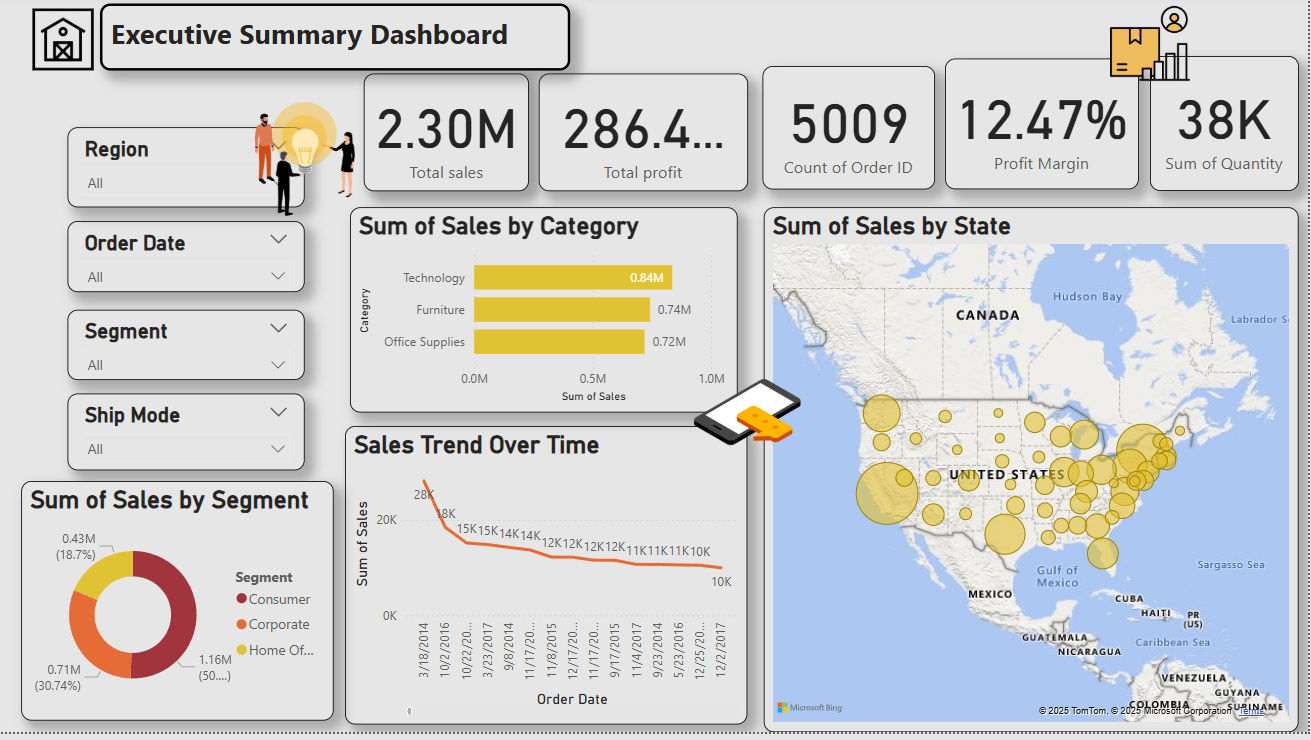

The dashboard page shown, as its layout file describes it:
{"tool":"powerbi","page":{"name":"Executive summary dashboard","canvas":[1280,720],"ordinal":1},"visuals":[{"type":"card","fields":{"Values":["Sample - Superstore.Total sales"]},"box":[342.4,85.6,163.9,113.7],"z":0},{"type":"card","fields":{"Values":["Sample - Superstore.Total profit"]},"box":[516,85.6,220.1,113.7],"z":1000},{"type":"card","fields":{"Values":["Count(Sample - Superstore.Order ID)"]},"box":[746.5,68.6,168.8,120.8],"z":2000},{"type":"card","fields":{"Values":["Sample - Superstore.Profit Margin"]},"box":[924.9,61.7,189.4,127.6],"z":3000},{"type":"card","fields":{"Values":["Sum(Sample - Superstore.Quantity)"]},"box":[1125,58.7,145.5,132.1],"z":4000},{"type":"lineChart","title":"Sales Trend Over Time","fields":{"Category":["Sample - Superstore.Order Date"],"Y":["Sum(Sample - Superstore.Sales)"]},"box":[337.5,420.7,393.8,292.3],"z":5000},{"type":"slicer","fields":{"Values":["Sample - Superstore.Order Date"]},"box":[65.9,219.6,231.9,70],"z":6000},{"type":"slicer","fields":{"Values":["Sample - Superstore.Region"]},"box":[65.9,129,231.9,78.2],"z":7000},{"type":"slicer","fields":{"Values":["Sample - Superstore.Segment"]},"box":[65.9,307.4,231.9,68.6],"z":8000},{"type":"slicer","fields":{"Values":["Sample - Superstore.Ship Mode"]},"box":[65.9,388.3,231.9,75.5],"z":9000},{"type":"map","fields":{"Category":["Sample - Superstore.State"],"Size":["Sum(Sample - Superstore.Sales)"]},"box":[747.2,206.7,523.4,513.6],"z":10000},{"type":"donutChart","fields":{"Category":["Sample - Superstore.Segment"],"Y":["Sum(Sample - Superstore.Sales)"]},"box":[20.8,474.5,305.7,234.8],"z":11000},{"type":"clusteredBarChart","fields":{"Category":["Sample - Superstore.Category"],"Y":["Sum(Sample - Superstore.Sales)"]},"box":[342.4,206.7,379.1,200.5],"z":12000},{"type":"image","box":[203,92.9,190.8,121.1],"z":13000},{"type":"textbox","box":[97.4,6.9,459.7,65.9],"z":14000},{"type":"image","box":[673.8,352.2,114.9,108.8],"z":15000},{"type":"image","box":[27.4,0,70,85.1],"z":16000},{"type":"image","box":[1020.9,0,208.6,93.3],"z":16001}]}

Visuals, with their boxes in screenshot pixels (x1, y1, x2, y2), scaled from the page's 1280x720 canvas onto the 1311x740 screenshot:
card - Sample - Superstore.Total sales: left=351, top=88, right=519, bottom=205
card - Sample - Superstore.Total profit: left=528, top=88, right=754, bottom=205
card - Count(Sample - Superstore.Order ID): left=765, top=71, right=937, bottom=195
card - Sample - Superstore.Profit Margin: left=947, top=63, right=1141, bottom=195
card - Sum(Sample - Superstore.Quantity): left=1152, top=60, right=1301, bottom=196
"Sales Trend Over Time" lineChart: left=346, top=432, right=749, bottom=733
slicer - Sample - Superstore.Order Date: left=67, top=226, right=305, bottom=298
slicer - Sample - Superstore.Region: left=67, top=133, right=305, bottom=213
slicer - Sample - Superstore.Segment: left=67, top=316, right=305, bottom=386
slicer - Sample - Superstore.Ship Mode: left=67, top=399, right=305, bottom=477
map - Sample - Superstore.State x Sum(Sample - Superstore.Sales): left=765, top=212, right=1301, bottom=739
donutChart - Sample - Superstore.Segment x Sum(Sample - Superstore.Sales): left=21, top=488, right=334, bottom=729
clusteredBarChart - Sample - Superstore.Category x Sum(Sample - Superstore.Sales): left=351, top=212, right=739, bottom=419
image: left=208, top=95, right=403, bottom=220
textbox: left=100, top=7, right=571, bottom=75
image: left=690, top=362, right=808, bottom=474
image: left=28, top=0, right=100, bottom=87
image: left=1046, top=0, right=1259, bottom=96
